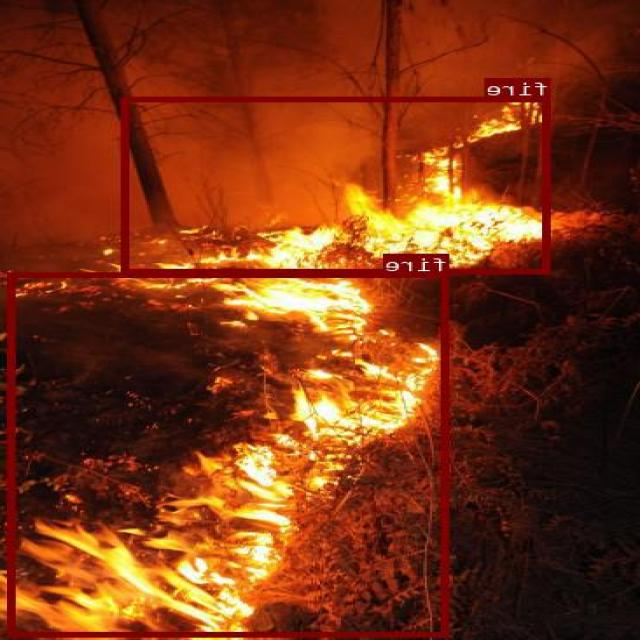fire: (10, 272, 450, 636), (123, 96, 552, 273)
